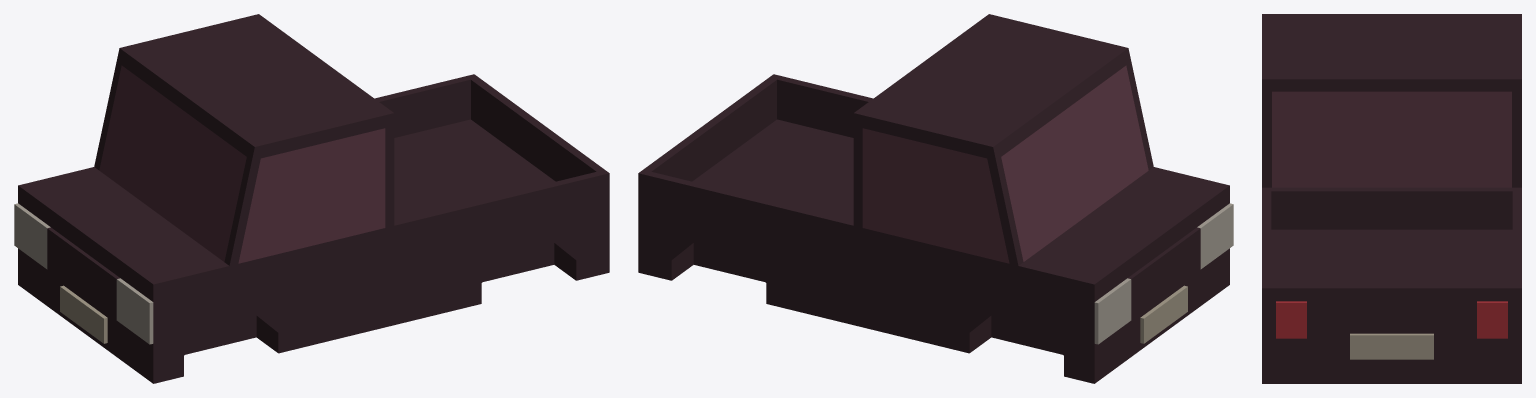
The model's file is Pickup_Black.fbx.
The picture shows the model from 3 angles, left to right: view 1: azimuth 30°, elevation 25°; view 2: azimuth 150°, elevation 25°; view 3: azimuth 270°, elevation 25°; orthographic projection. The views are drawn at different scales.
Parts seen in each view (by area): view 1: Pickup_Black, Pickup_Lights; view 2: Pickup_Black, Pickup_Lights; view 3: Pickup_Black, Pickup_Lights.
Boxes of the visible parts, bbox=[...] form: Pickup_Black: bbox=[18, 14, 609, 383]; Pickup_Lights: bbox=[14, 203, 153, 344]; Pickup_Black: bbox=[638, 14, 1229, 383]; Pickup_Lights: bbox=[1094, 203, 1233, 344]; Pickup_Black: bbox=[1262, 14, 1521, 383]; Pickup_Lights: bbox=[1276, 301, 1507, 338].
Bounding box in the file's own units: 3.66 × 1.6 × 1.85.
